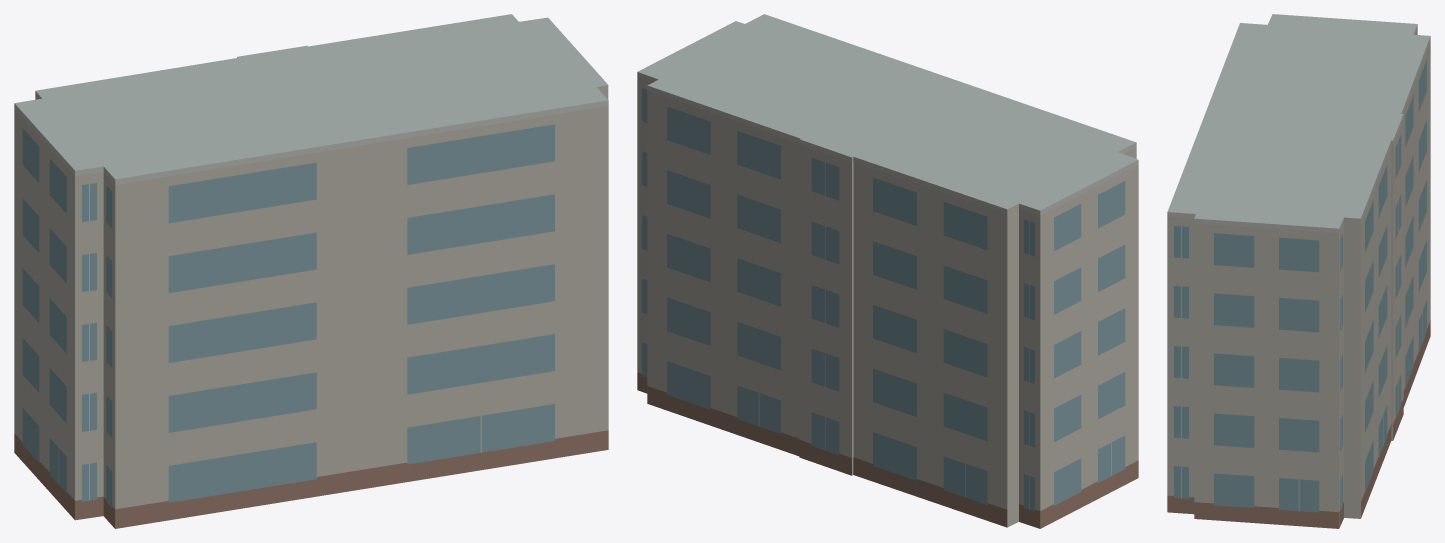
Rendered from survey-upis-32692223.glb.
3 renders of one model, left to right at view 1: azimuth 30°, elevation 25°; view 2: azimuth 150°, elevation 25°; view 3: azimuth 270°, elevation 25°, orthographic. The views are drawn at different scales.
Parts seen in each view (by area): view 1: survey-upis-32692223.tmp; view 2: survey-upis-32692223.tmp; view 3: survey-upis-32692223.tmp.
Boxes of the visible parts, x1,y1,x2,y2 form: survey-upis-32692223.tmp: (14,14,608,528); survey-upis-32692223.tmp: (637,14,1138,528); survey-upis-32692223.tmp: (1167,14,1430,528).
Size of the model in its own units: 23.38 by 15.25 by 12.12.
